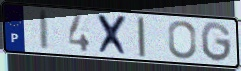4: (68, 12, 92, 54)
G: (199, 21, 233, 64)
I: (38, 9, 51, 53), (135, 16, 148, 58)
O: (166, 20, 198, 61)
X: (96, 13, 131, 58)
